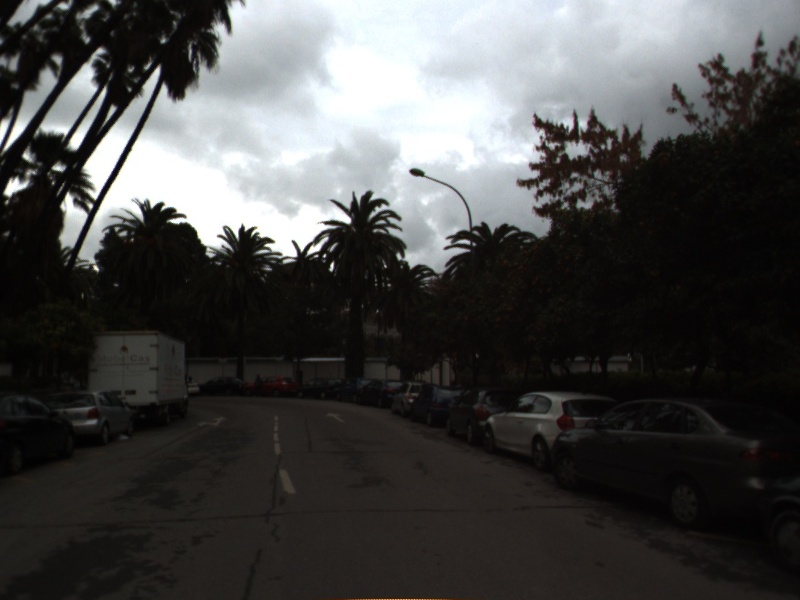STRAIGHT: (323, 410, 347, 424)
STRAIGHT_LEFT: (195, 414, 231, 430)
